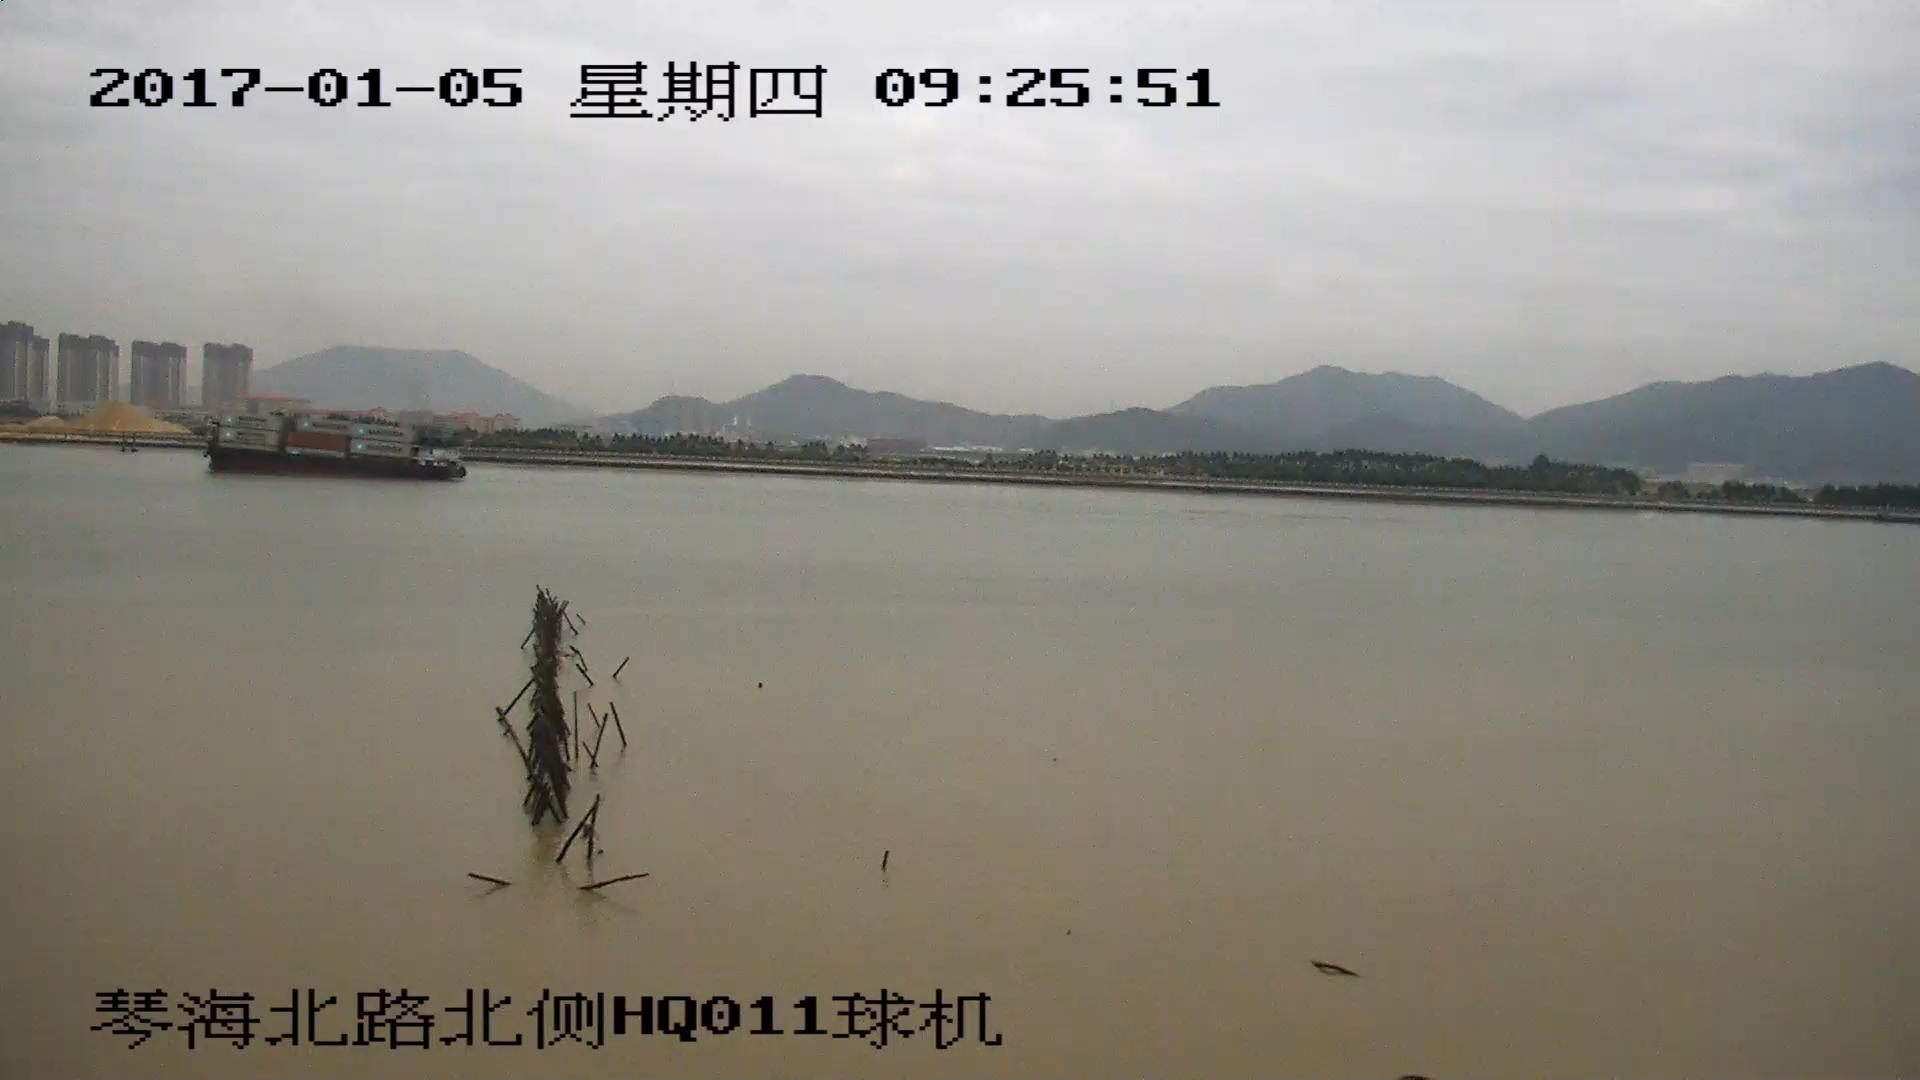Ship: (196, 417, 462, 483)
